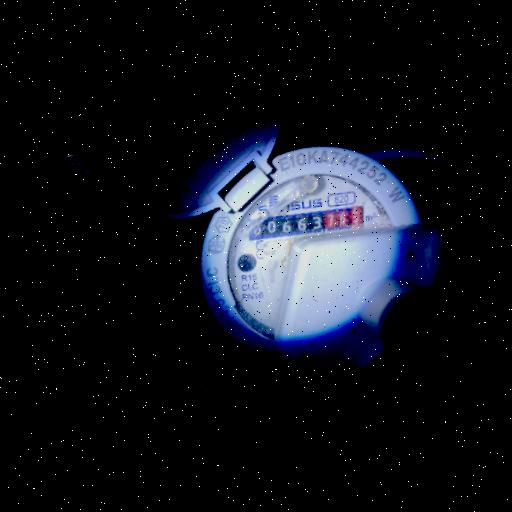0: (248, 218, 267, 240), (264, 218, 280, 237)
3: (346, 204, 364, 230), (309, 213, 325, 232)
6: (278, 216, 296, 236), (294, 214, 310, 234), (336, 209, 351, 229)
7: (323, 210, 340, 230)
border_water_meter_number: (243, 191, 369, 257)
